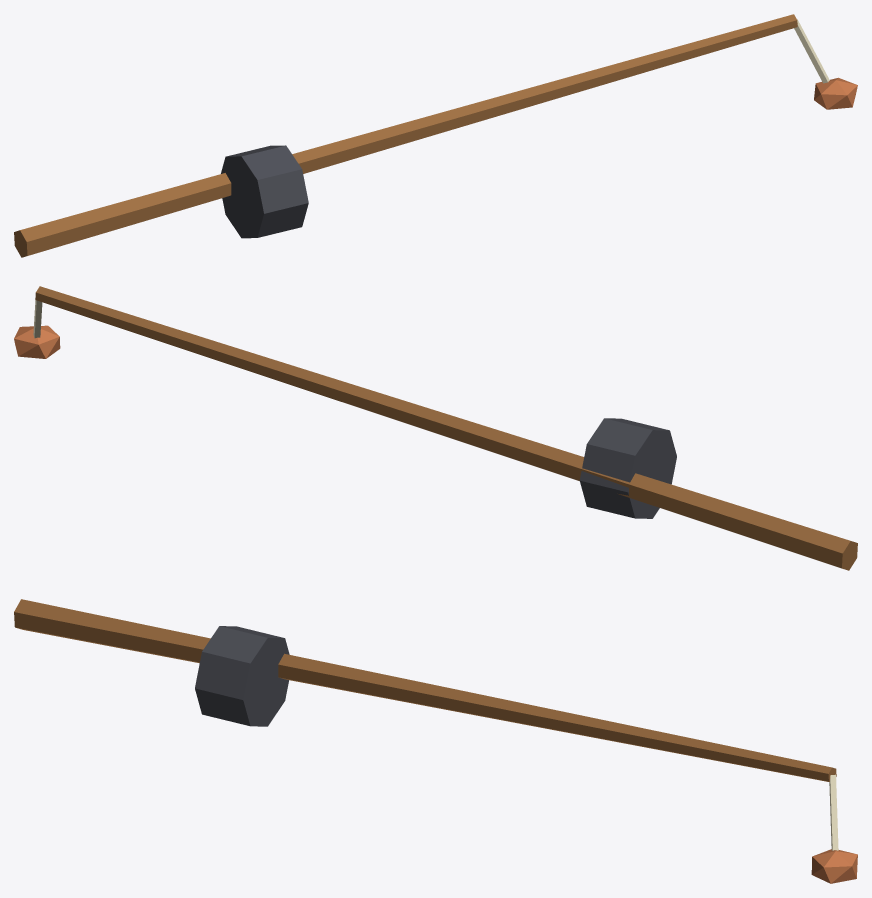
The model's file is drop_fishing_rod.glb.
3 renders of one model, top to bottom at view 1: azimuth 30°, elevation 25°; view 2: azimuth 150°, elevation 25°; view 3: azimuth 330°, elevation 25°, orthographic. The views are drawn at different scales.
Visible parts, largest first — view 1: drop_fishing_rod; view 2: drop_fishing_rod; view 3: drop_fishing_rod.
Boxes of the visible parts, x1,y1,x2,y2 form: drop_fishing_rod: (14, 14, 857, 257); drop_fishing_rod: (14, 286, 857, 570); drop_fishing_rod: (14, 599, 857, 883).
Size of the model in its own units: 0.718 by 0.073 by 0.0777.
